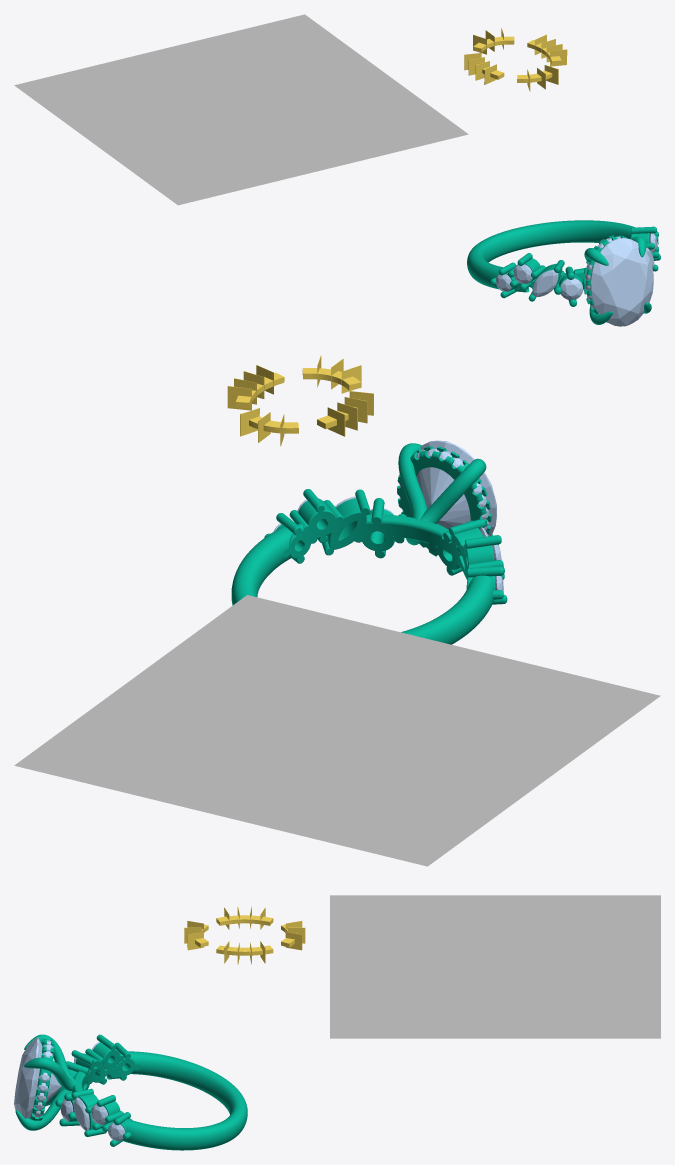
3 renders of one model, top to bottom at view 1: azimuth 30°, elevation 25°; view 2: azimuth 150°, elevation 25°; view 3: azimuth 270°, elevation 25°, orthographic. The views are drawn at different scales.
Parts seen in each view (by area): view 1: VR1051(base).3dm, Diamond_Oval, Diamond_Marquise; view 2: VR1051(base).3dm, Diamond_Oval, Bezel (×2); view 3: VR1051(base).3dm, Diamond_Oval, Channel Cutter (×2), Bezel.
Boxes of the visible parts, x1,y1,x2,y2 form: VR1051(base).3dm: (14, 14, 651, 324); Diamond_Oval: (590, 238, 653, 326); Diamond_Marquise: (532, 270, 558, 296); VR1051(base).3dm: (14, 443, 660, 866); Diamond_Oval: (416, 440, 496, 536); Bezel (×2): (298, 498, 366, 549); VR1051(base).3dm: (15, 895, 660, 1150); Diamond_Oval: (14, 1037, 61, 1118); Channel Cutter (×2): (216, 915, 273, 955); Bezel: (93, 1042, 120, 1069).
Size of the model in its own units: 5.55 by 2.73 by 8.12.
